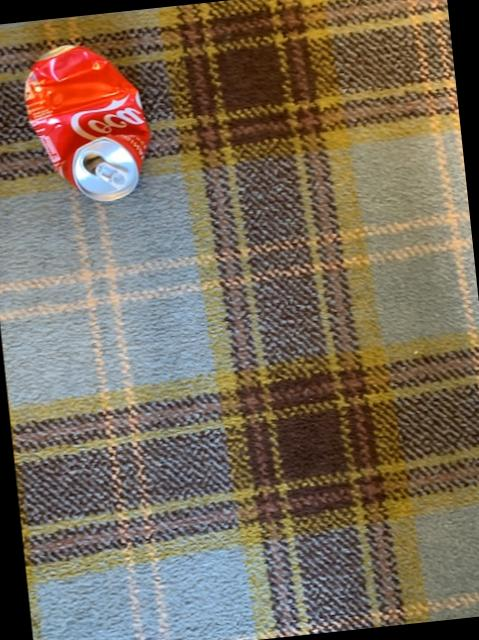metal: (23, 46, 148, 202)
